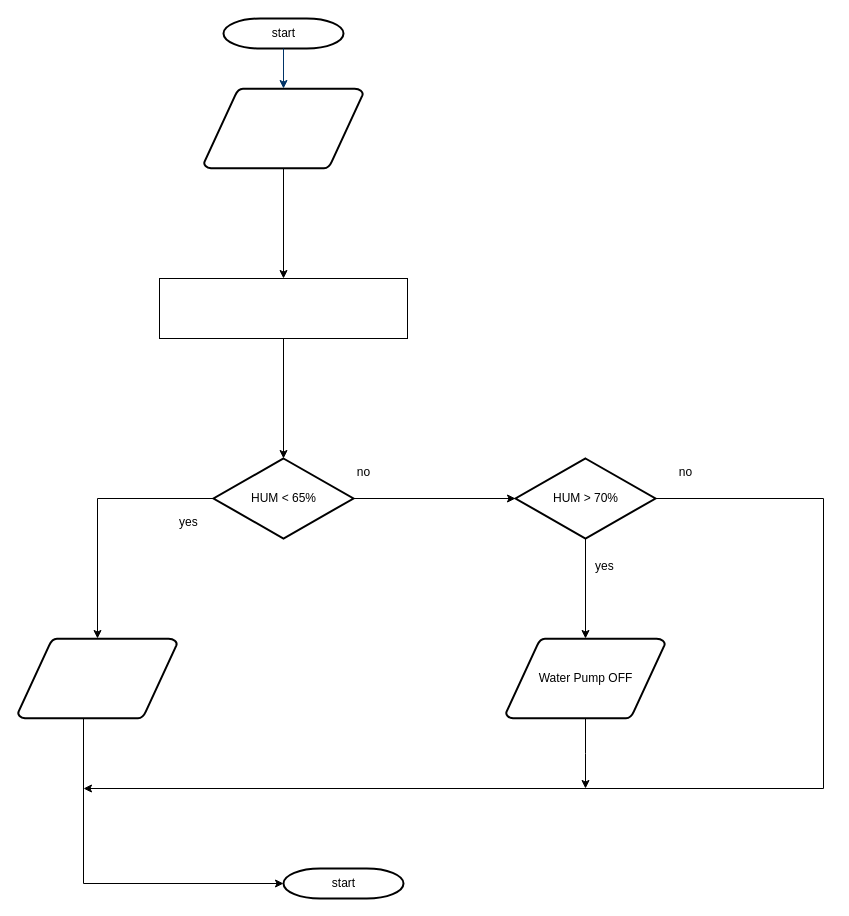
Some shapes in this 849 by 916 pixel diagram are drawn without their labels. Here are the shapes that lost their labels. From the top down, the centre of each, then its label:
pixel 283 128: Monitor Humidity
pixel 283 308: HUM = DHT.hum
pixel 97 678: Water Pump ON
